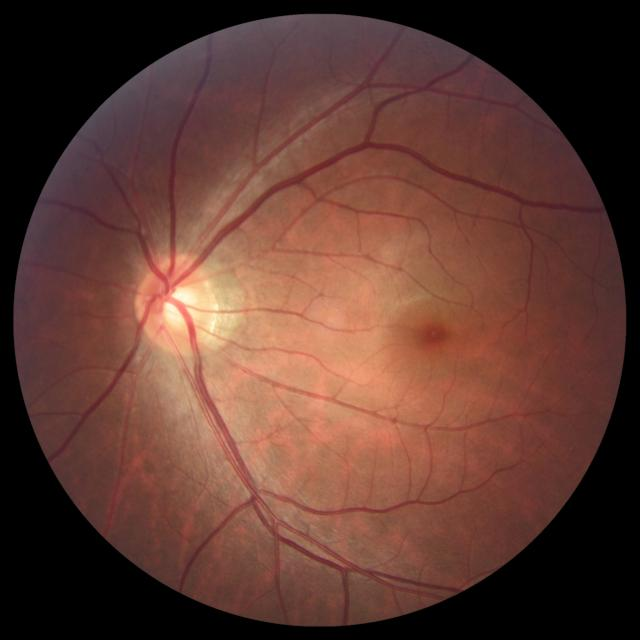OC: (159, 284, 196, 328)
OD: (136, 256, 215, 351)
